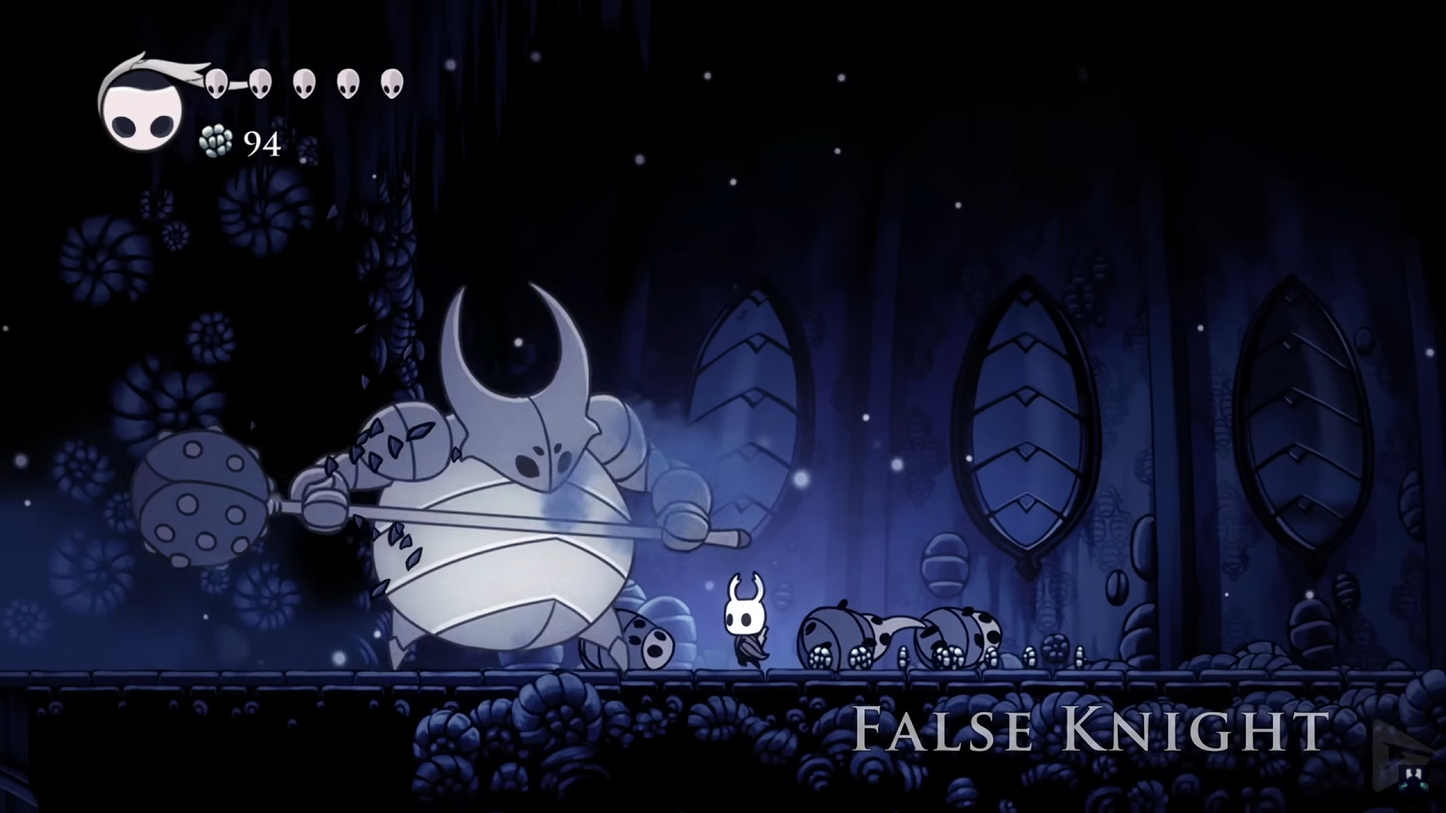HK: (720, 562, 782, 669)
